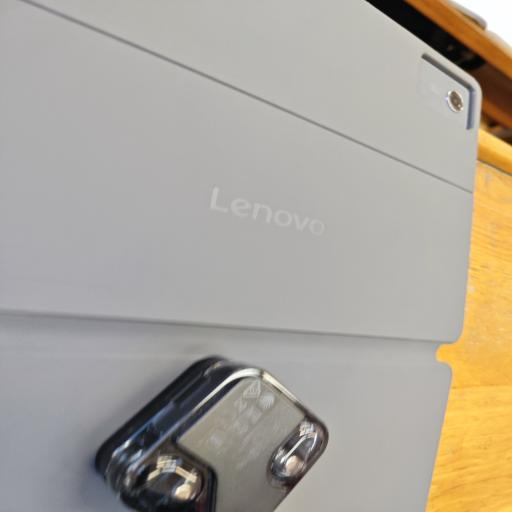CASTI: (86, 350, 336, 512)
